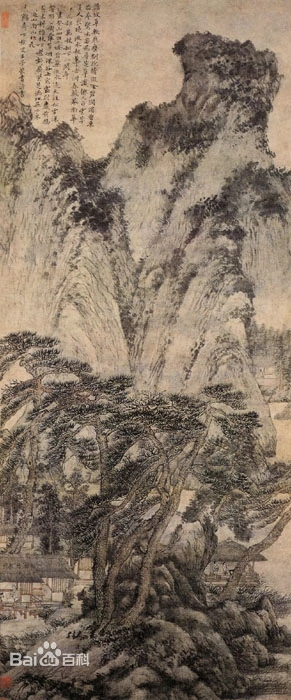house: (5, 530, 88, 616), (206, 539, 265, 595)
mountain: (121, 35, 291, 216)
pine: (4, 329, 284, 617)
range: (3, 91, 122, 356), (179, 172, 291, 413)
rock: (58, 602, 287, 695)
